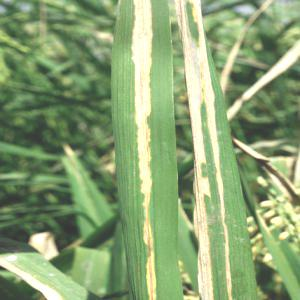2 BacterialBlight: (173, 2, 249, 294), (109, 1, 180, 297)
